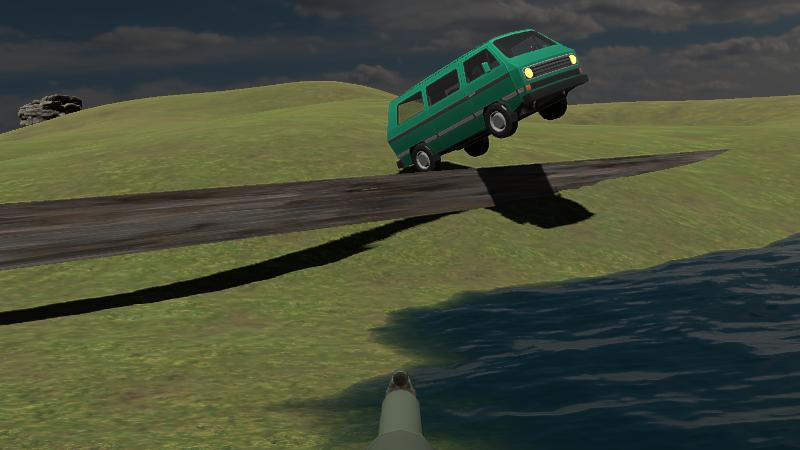car: (385, 28, 589, 167)
